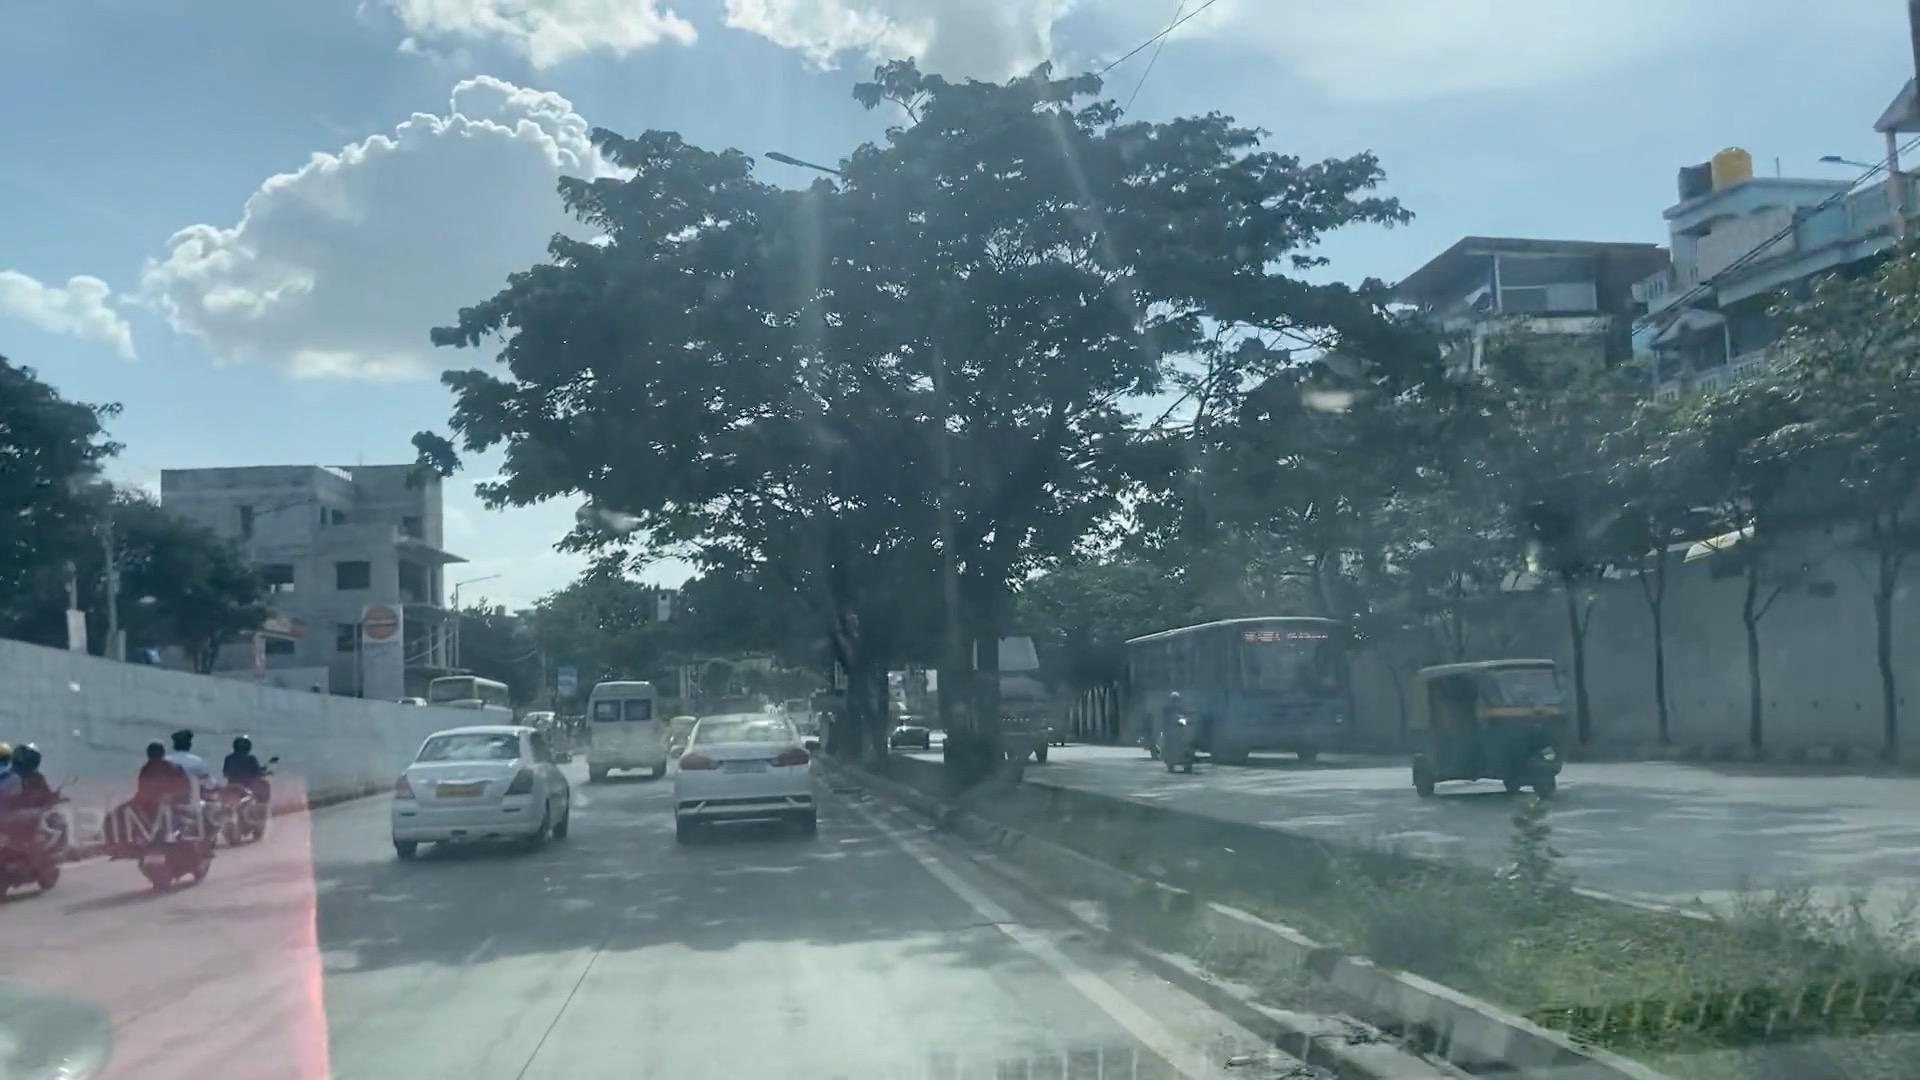HMV: (588, 678, 670, 781)
LMV: (132, 720, 348, 868), (396, 723, 580, 845), (0, 731, 84, 902), (678, 712, 815, 810)
